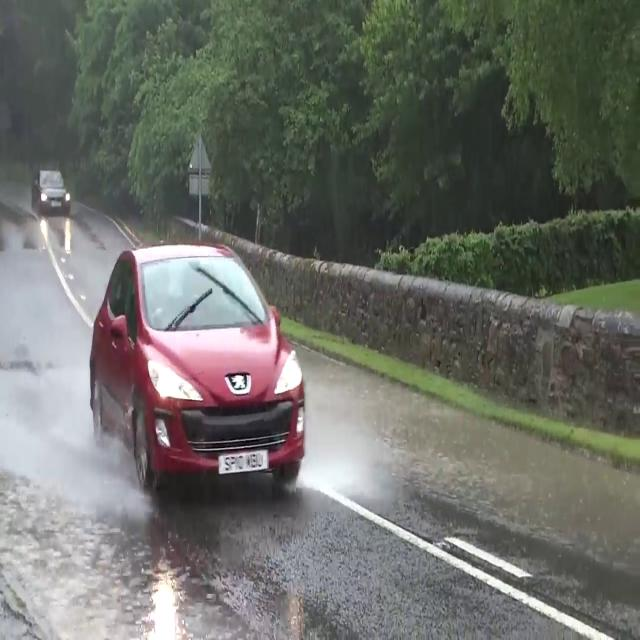license-plate-annotation: (216, 446, 274, 478)
